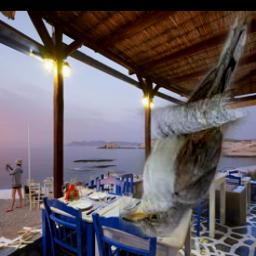Cuckoo: (120, 11, 253, 237)
